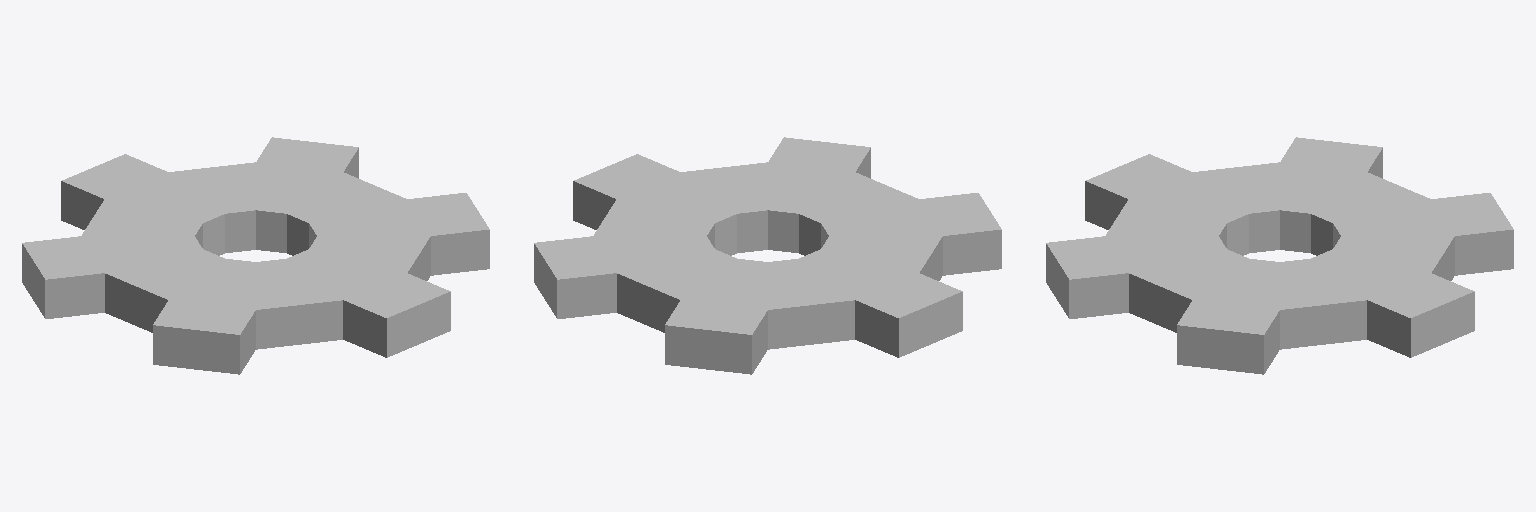
File: Cog2.obj
3 renders of one model, left to right at view 1: azimuth 30°, elevation 25°; view 2: azimuth 150°, elevation 25°; view 3: azimuth 270°, elevation 25°, orthographic.
Visible parts, largest first — view 1: Cog2; view 2: Cog2; view 3: Cog2.
Part boxes in pixels (left/top/right/bottom): Cog2: left=22, top=137, right=489, bottom=374; Cog2: left=534, top=137, right=1001, bottom=374; Cog2: left=1046, top=137, right=1513, bottom=374.
Bounding box in the file's own units: 0.5352 × 0.05 × 0.5352.